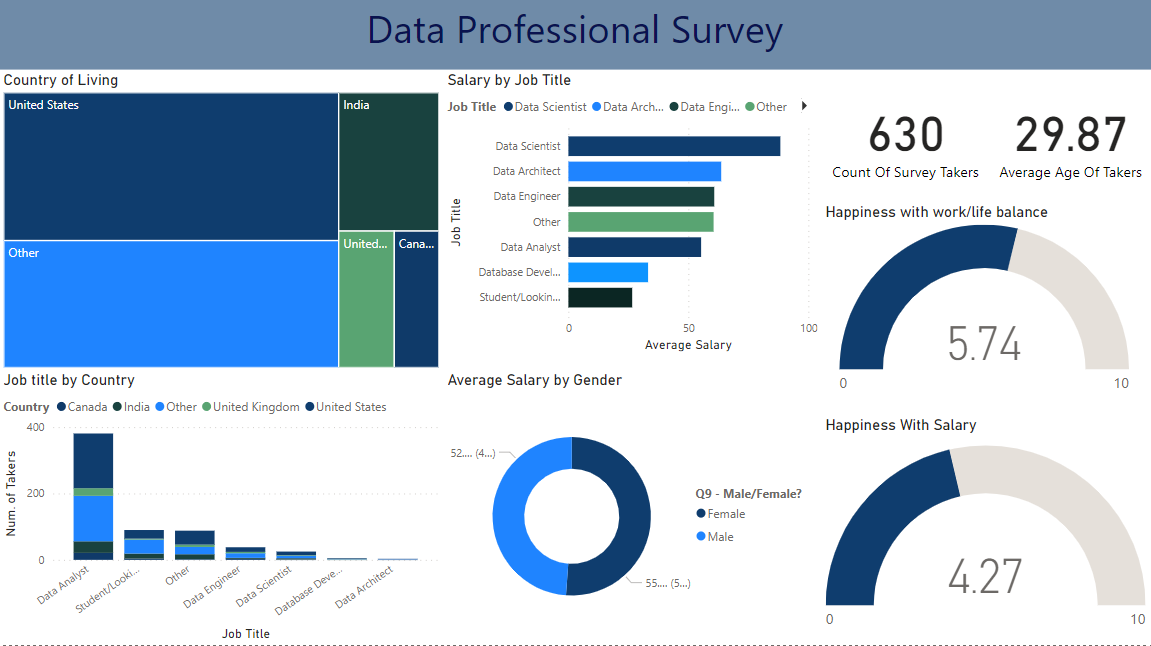

Layout of this report page (visuals, bound fields, positions):
{"tool":"powerbi","page":{"name":"Page 1","canvas":[1280,720],"ordinal":0},"visuals":[{"type":"card","fields":{"Values":["CountNonNull(Data Professional Survey.Unique ID)"]},"box":[914.2,80.9,187.7,147.2],"z":0},{"type":"textbox","box":[0,0,1279.8,80.9],"z":1000},{"type":"card","fields":{"Values":["Avg(Data Professional Survey.Q10 - Current Age)"]},"box":[1101.8,80.9,178,147.2],"z":2000},{"type":"barChart","title":"Salary by Job Title","fields":{"Category":["Data Professional Survey.Q1 - Which Title Best Fits your Current Role?.1"],"Series":["Data Professional Survey.Q1 - Which Title Best Fits your Current Role?.1"],"Y":["Avg(Data Professional Survey.Average Salary)"]},"box":[493.5,80.9,420.7,317.1],"z":3000},{"type":"gauge","title":"Happiness with work/life balance","fields":{"Y":["Avg(Data Professional Survey.Q6 - How Happy are you in your Current Position with the following? (Work/Life Balance))"],"MinValue":["Min(Data Professional Survey.Q6 - How Happy are you in your Current Position with the following? (Work/Life Balance))"],"MaxValue":["Max(Data Professional Survey.Q6 - How Happy are you in your Current Position with the following? (Work/Life Balance))"]},"box":[914.2,228.1,362.4,221.7],"z":4000},{"type":"gauge","title":"Happiness With Salary","fields":{"Y":["Avg(Data Professional Survey.Q6 - How Happy are you in your Current Position with the following? (Salary))"],"MinValue":["Min(Data Professional Survey.Q6 - How Happy are you in your Current Position with the following? (Salary))"],"MaxValue":["Max(Data Professional Survey.Q6 - How Happy are you in your Current Position with the following? (Salary))"]},"box":[914.2,464.4,365.7,255.6],"z":5000},{"type":"treemap","title":"Country of Living","fields":{"Group":["Data Professional Survey.Q11 - Which Country do you live in?.1"],"Values":["CountNonNull(Data Professional Survey.Q11 - Which Country do you live in?.1)"]},"box":[0,80.9,493.5,334.9],"z":6000},{"type":"donutChart","title":"Average Salary by Gender","fields":{"Category":["Data Professional Survey.Q9 - Male/Female?"],"Y":["Avg(Data Professional Survey.Average Salary)"]},"box":[493.5,415.8,420.7,304.2],"z":7000},{"type":"columnChart","title":"Job title by Country","fields":{"Category":["Data Professional Survey.Q1 - Which Title Best Fits your Current Role?.1"],"Y":["CountNonNull(Data Professional Survey.Q11 - Which Country do you live in?.1)"],"Series":["Data Professional Survey.Q11 - Which Country do you live in?.1"]},"box":[0,415.8,493.5,304.2],"z":8000}]}

Visuals, with their boxes in screenshot pixels (x1, y1, x2, y2), scaled from the page's 1280x720 canvas onto the 1151x646 screenshot:
card - CountNonNull(Data Professional Survey.Unique ID): <bbox>822, 73, 991, 205</bbox>
textbox: <bbox>0, 0, 1150, 73</bbox>
card - Avg(Data Professional Survey.Q10 - Current Age): <bbox>991, 73, 1150, 205</bbox>
"Salary by Job Title" barChart: <bbox>444, 73, 822, 357</bbox>
"Happiness with work/life balance" gauge: <bbox>822, 205, 1148, 404</bbox>
"Happiness With Salary" gauge: <bbox>822, 417, 1150, 645</bbox>
"Country of Living" treemap: <bbox>0, 73, 444, 373</bbox>
"Average Salary by Gender" donutChart: <bbox>444, 373, 822, 645</bbox>
"Job title by Country" columnChart: <bbox>0, 373, 444, 645</bbox>
